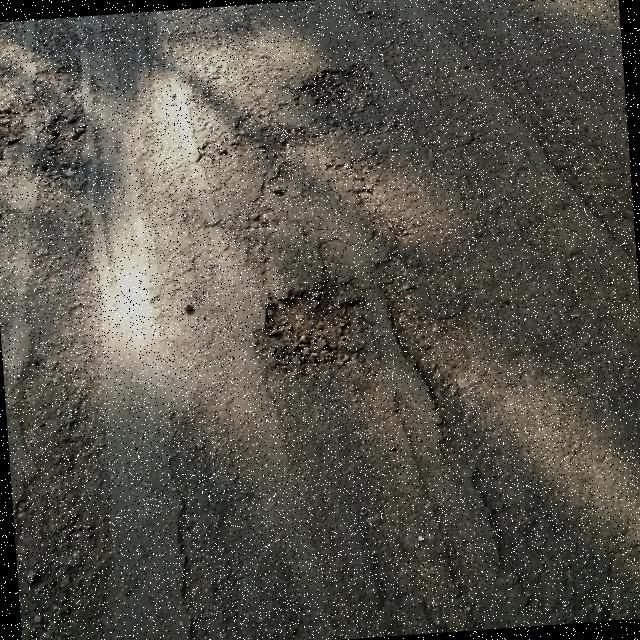Pothole: (259, 277, 368, 376), (297, 56, 382, 117), (38, 111, 84, 187)
